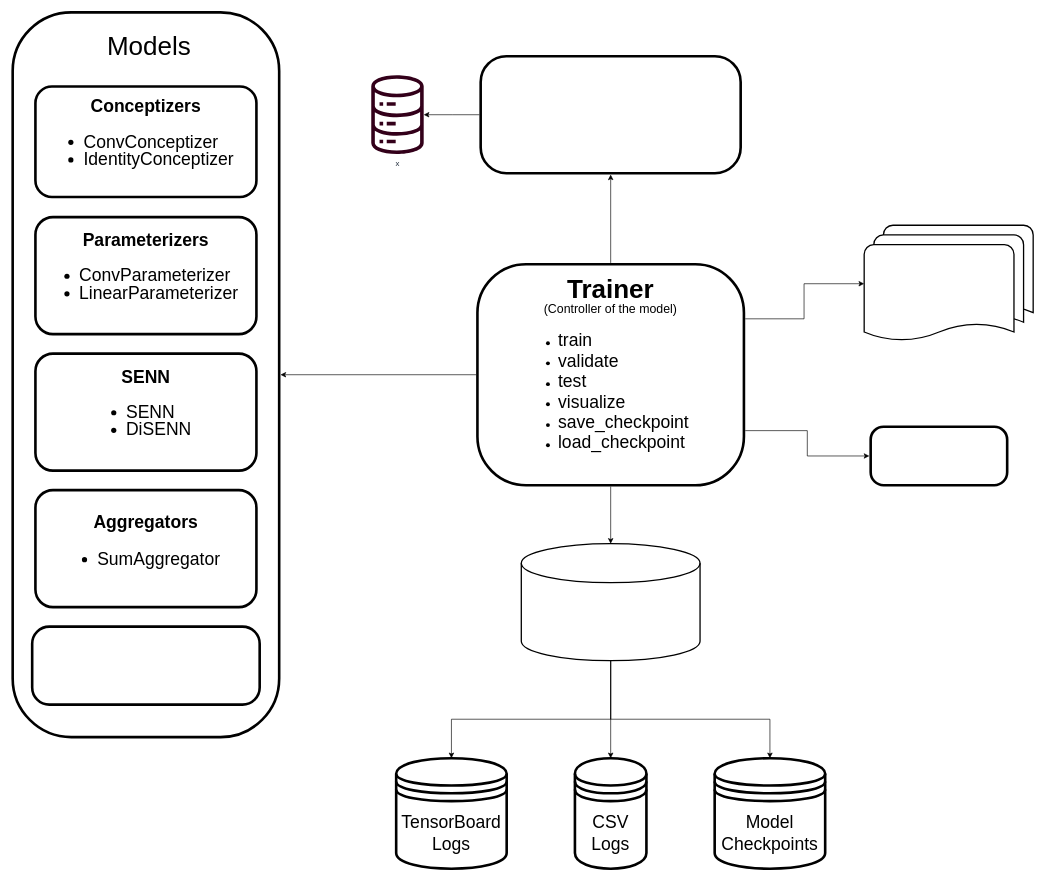
This 1045x881 diagram has some shape labels left out. Here are the shapes that lost their labels. From the top down, the centre of each, then its label:
At [610,114]: "Data Loader (Gets the data specified in the config) get_dataloader(config)".
At [948,283]: "Config (Experimental parameters)".
At [938,455]: "Utils".
At [610,602]: "Experimental Results".
At [146,665]: "Losses".
